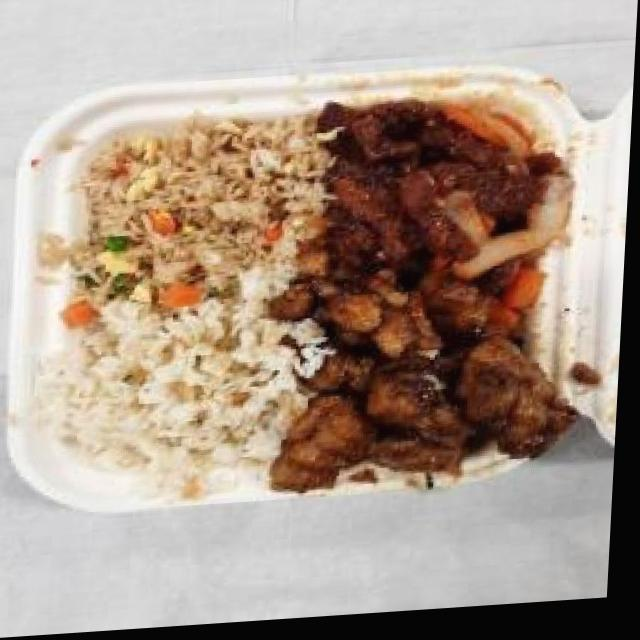Beijing Beef: (304, 89, 580, 293)
Fried Rice: (72, 116, 328, 324)
The Original Orange Chicken: (272, 273, 604, 503)
White Steamed Rice: (65, 303, 312, 489)
